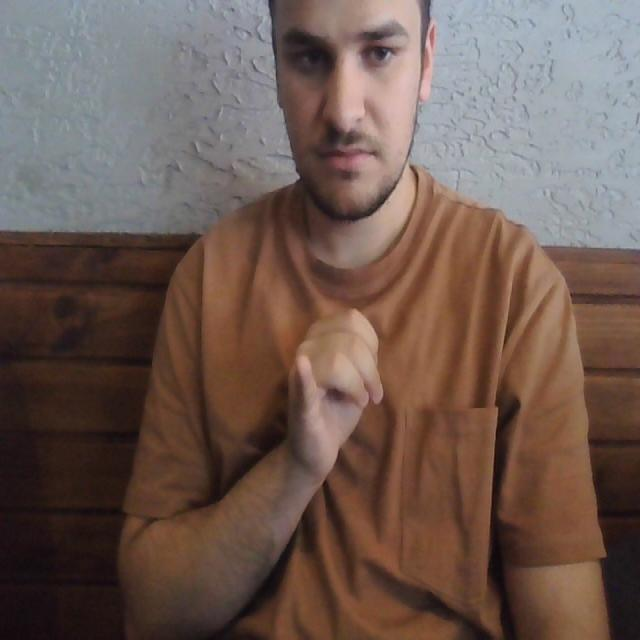kotu: (268, 290, 391, 463)
